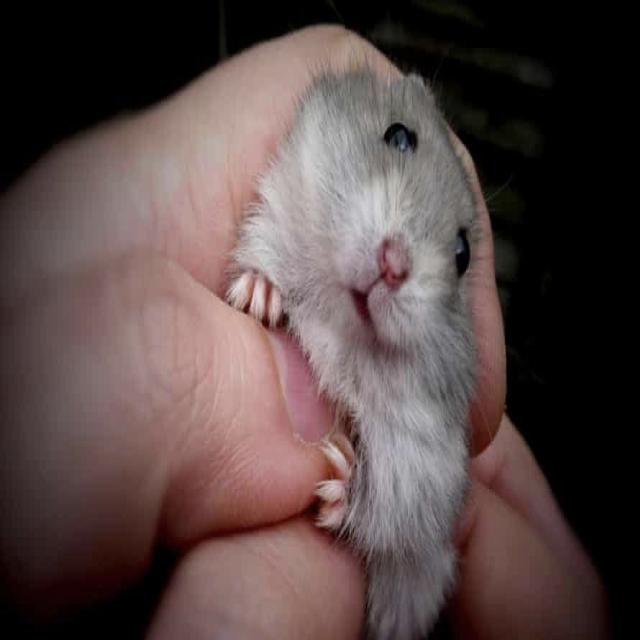hamster: (227, 68, 477, 639)
